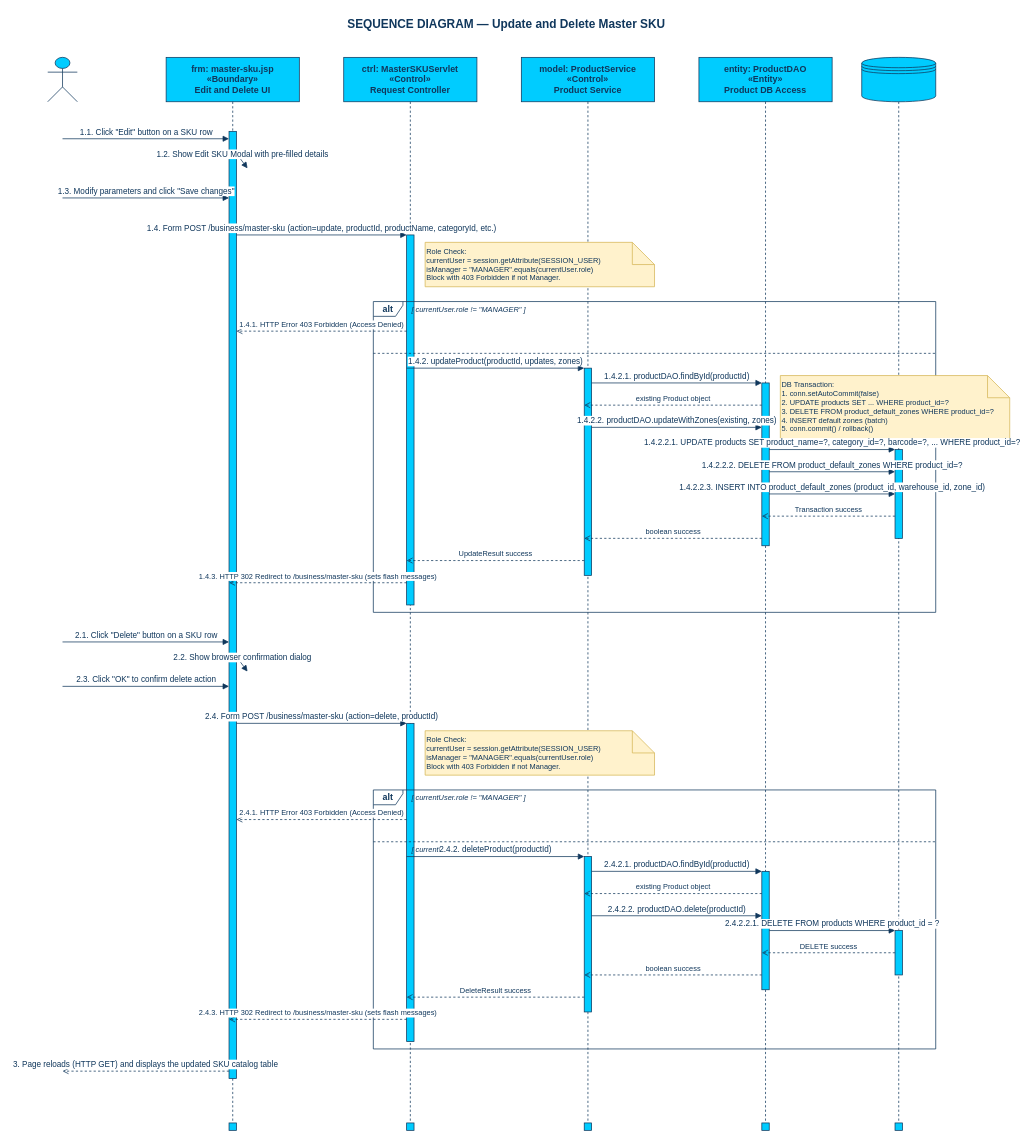
Some shapes in this 1032 by 1143 pixel diagram are drawn without their labels. Each missing label, with the centre of its shape:
"Business Manager (User)" belongs at pixel 62 79.
"DB: MySQL" belongs at pixel 898 79.
